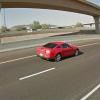Bridge: (25, 0, 99, 25)
